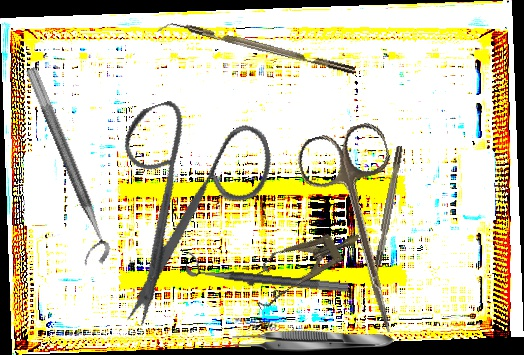Chopper: (157, 15, 356, 84)
Fixation Ring: (9, 65, 115, 271), (185, 251, 350, 294)
Hook Surgical: (369, 145, 405, 288)
Iris Scissors: (66, 75, 310, 331), (292, 119, 437, 343)
Speculum: (240, 214, 370, 313)
Tissue Forceps: (232, 330, 394, 352)
